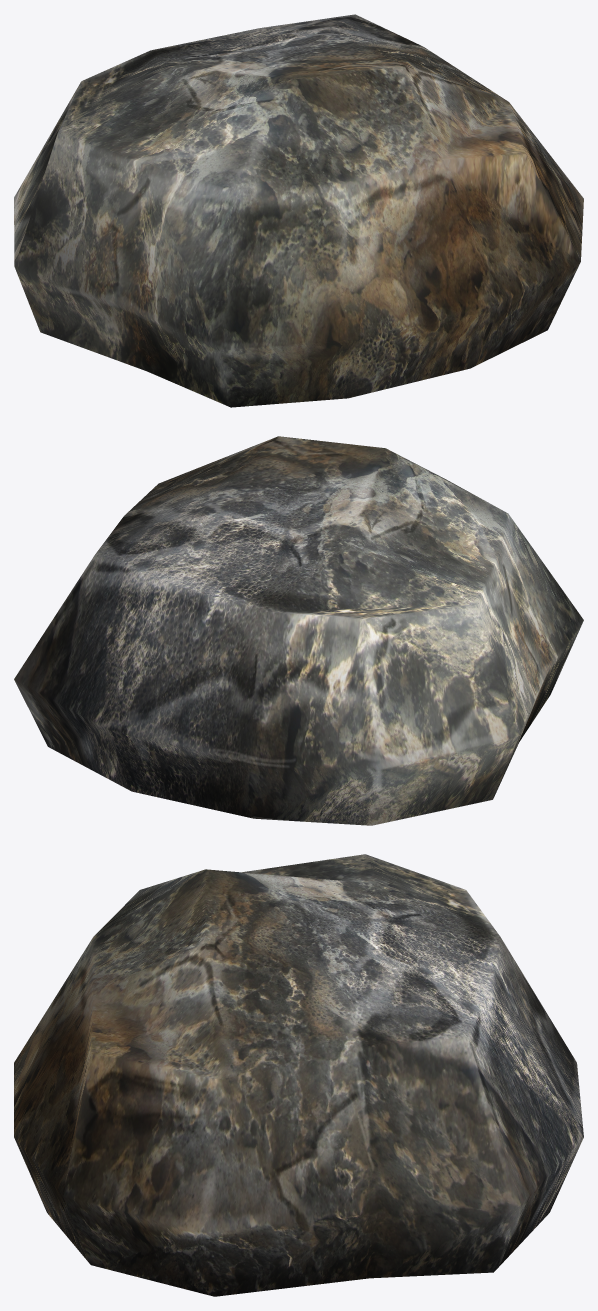
Rendered from rock_1.fbx.
The picture shows the model from 3 angles, top to bottom: view 1: azimuth 30°, elevation 25°; view 2: azimuth 150°, elevation 25°; view 3: azimuth 270°, elevation 25°; orthographic projection. The views are drawn at different scales.
Visible parts, largest first — view 1: Cube; view 2: Cube; view 3: Cube.
Part boxes in pixels (x1,y1,x2,y2): Cube: (14, 14, 583, 407); Cube: (14, 436, 583, 825); Cube: (14, 854, 583, 1296).
Size of the model in its own units: 3.62 by 1.83 by 3.27.
